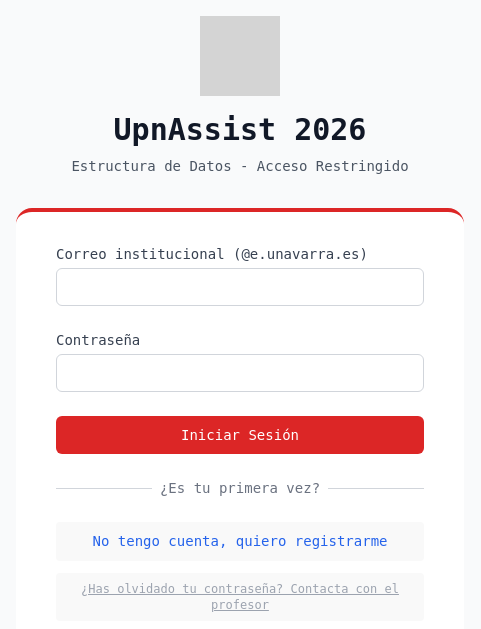
Test: LoginPage Component › should switch to registration form
Step 1. Click the button "No tengo cuenta, quiero registrarme" → (240, 541), box [56, 522, 424, 561]
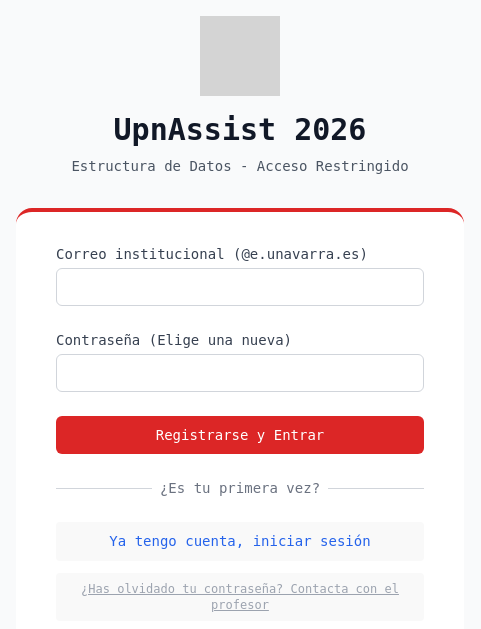
Result: the button "Registrarse y Entrar" is shown at [56, 416, 424, 454]
Result: the button "Ya tengo cuenta, iniciar sesión" is shown at [56, 522, 424, 561]
